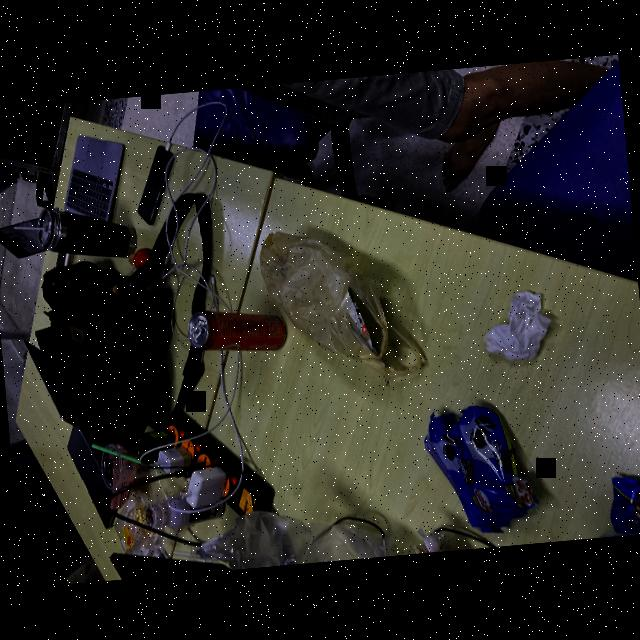can: (184, 301, 290, 364)
plastic_bag: (253, 215, 435, 398), (189, 495, 396, 571)
plastic_bottle: (139, 487, 229, 528)
plastic_box: (104, 489, 170, 566)
plastic_cup: (89, 434, 179, 494)
scrap_paper: (473, 280, 568, 372)
snack_bag: (418, 392, 547, 542), (601, 469, 640, 535)
straw: (89, 435, 149, 471), (13, 222, 47, 232)
